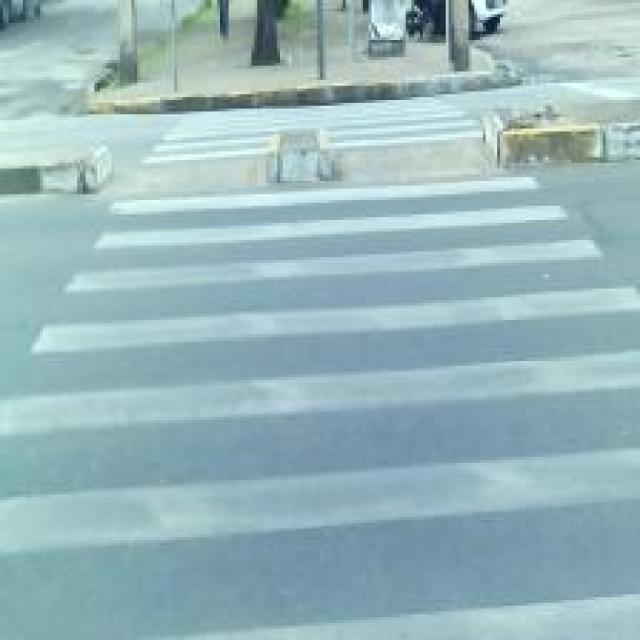walk-crossing: (109, 191, 597, 640)
